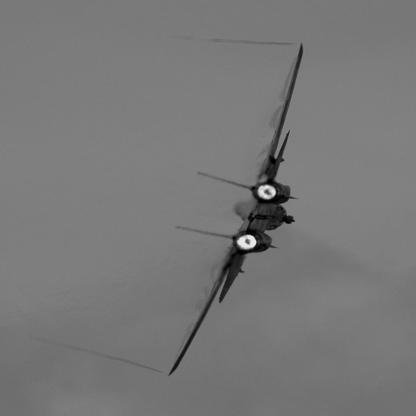F14: (167, 43, 306, 378)
